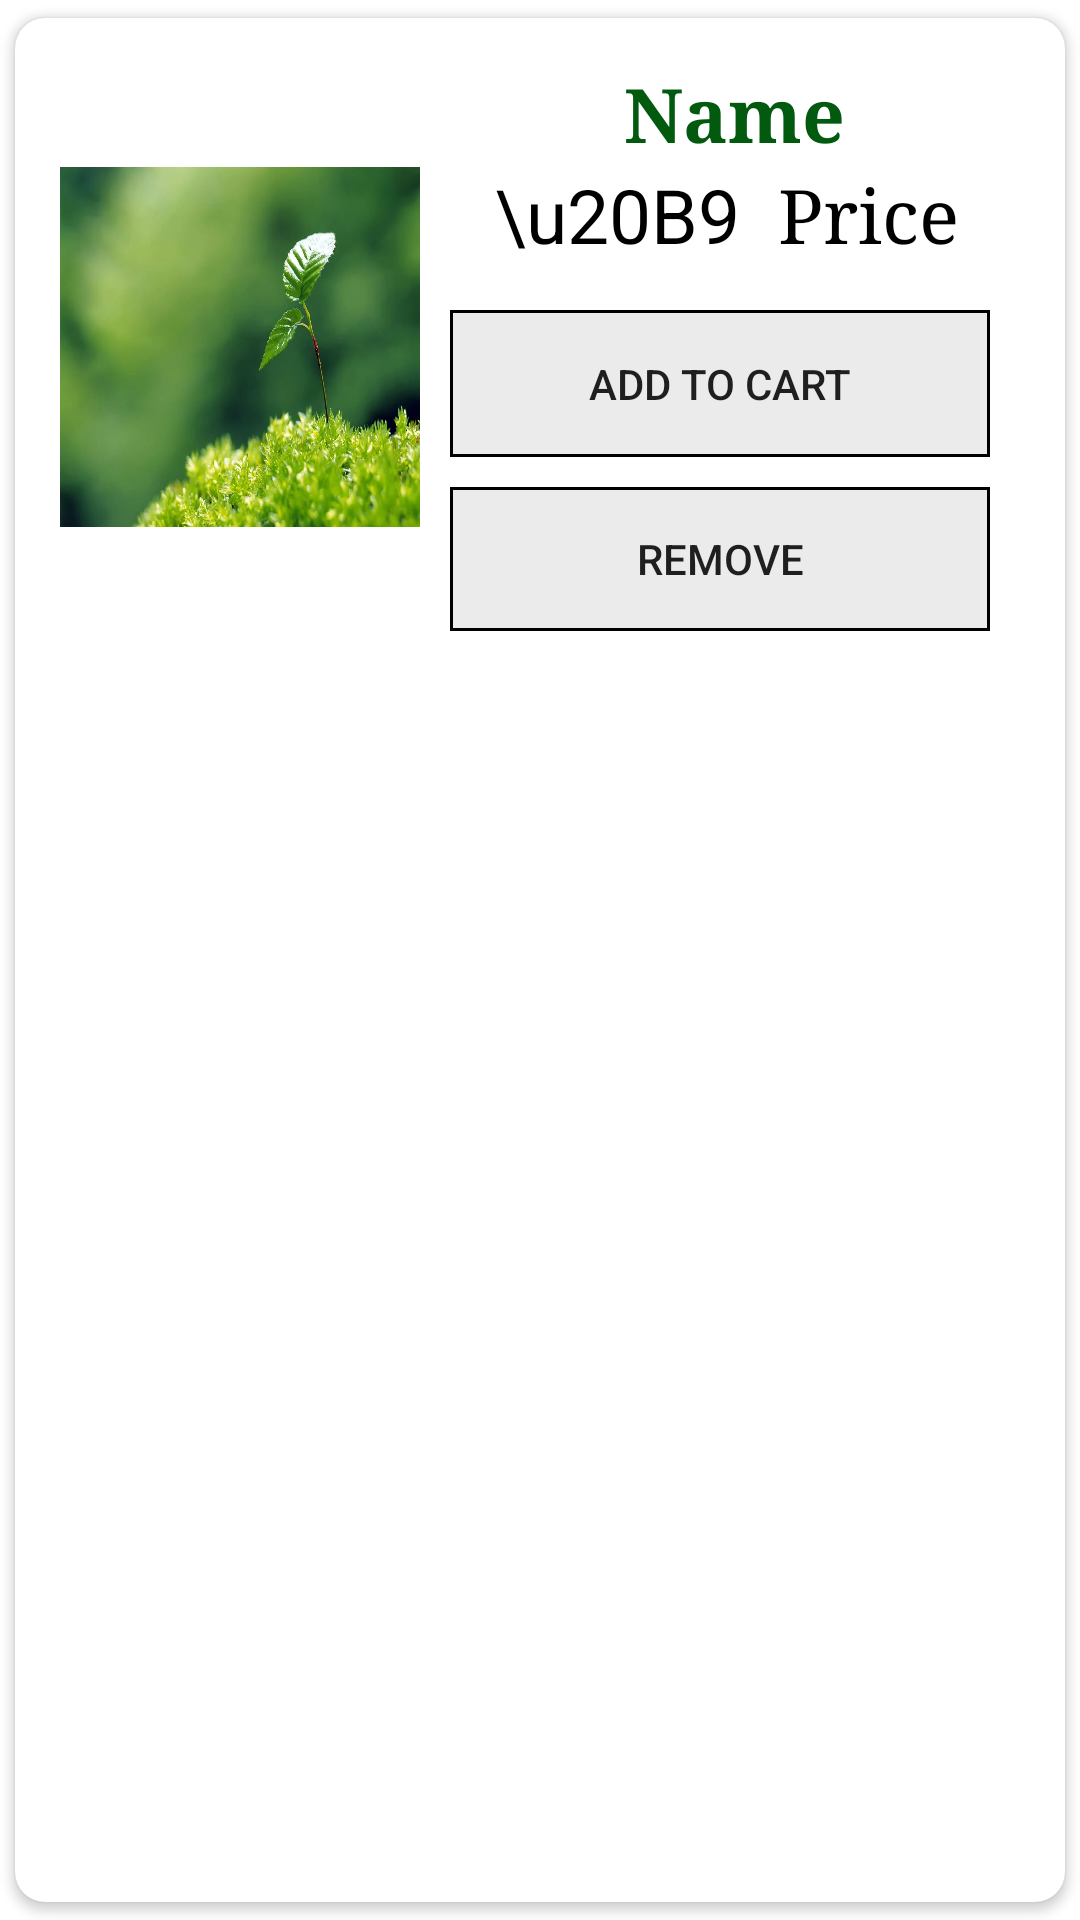

Named icons in this screenshot (1080×1920) and their bounding boxes, (x1, y1, x2, y2):
plants: (60, 167, 420, 527)
